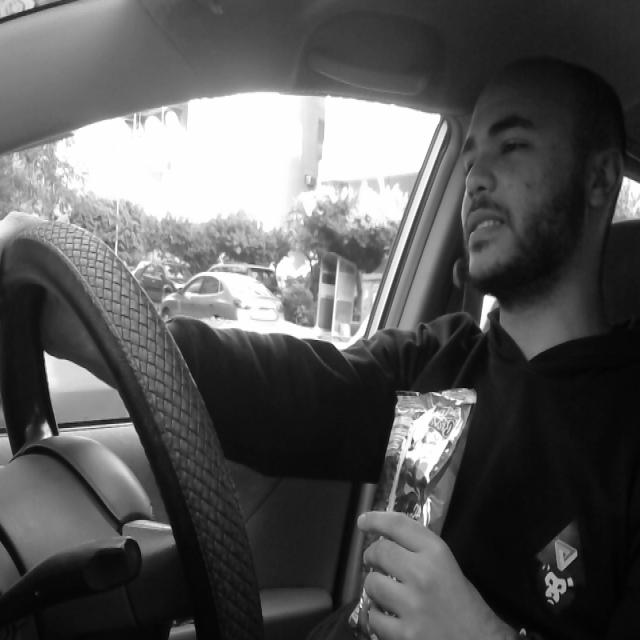eating: (350, 385, 482, 640)
